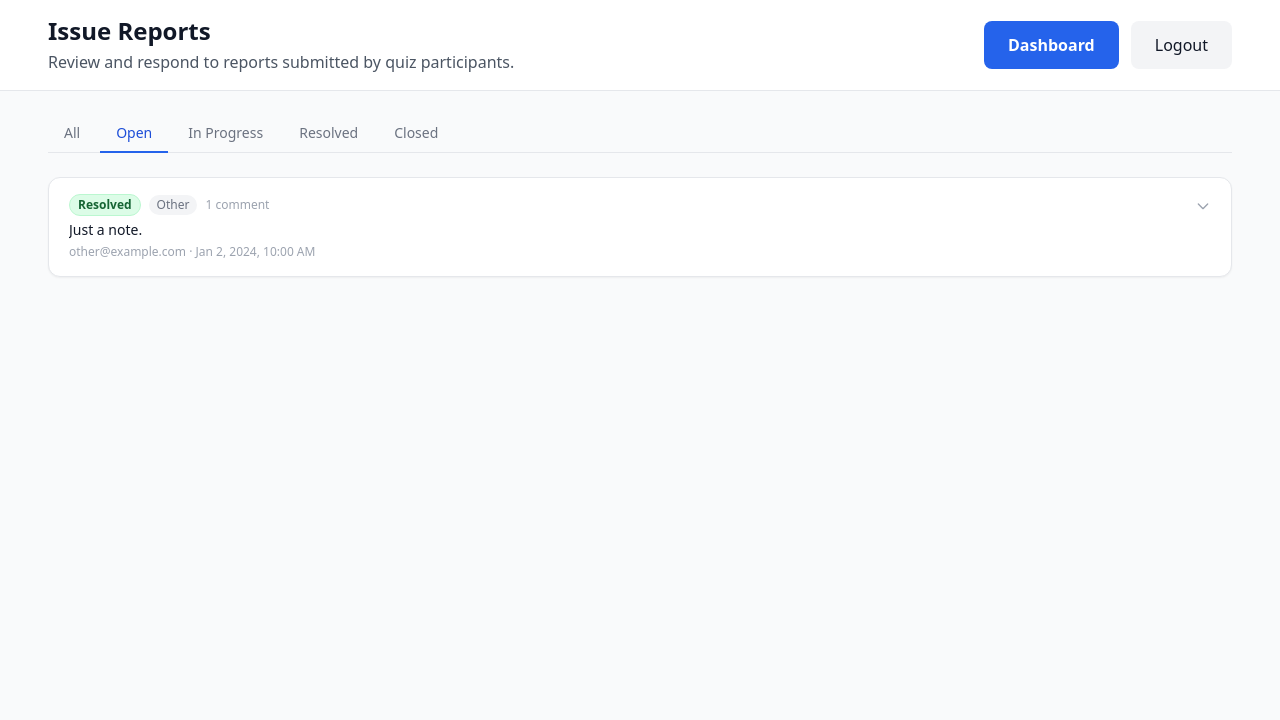
Test: ReportsPanelPage › expands a report to show details, status control, and comment thread
The width and height of the screenshot is (1280, 720).
Click the text "Just a note." at [106, 230], box [69,220,142,239]
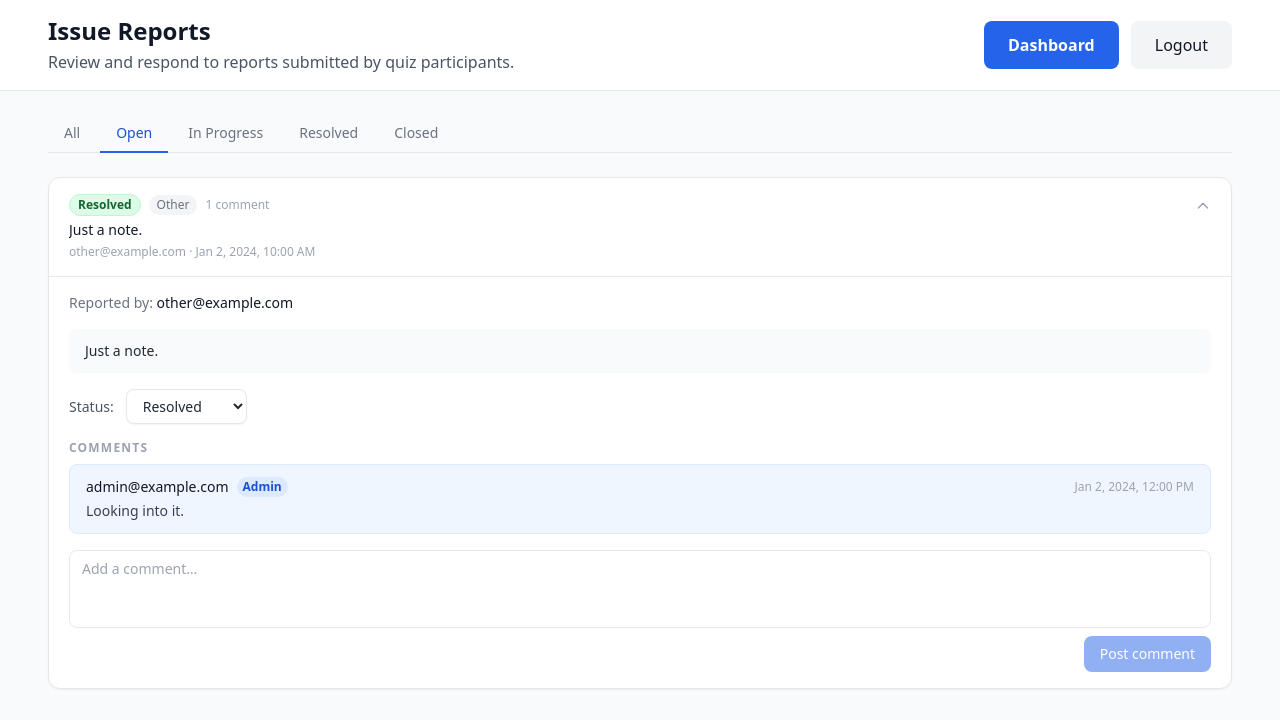
Check: the text "Reported by:" is shown, box [69,293,156,312]
Check: the text "other@example.com" is shown, box [156,293,293,312]
Check: the text "Looking into it." is shown, box [86,501,184,520]
